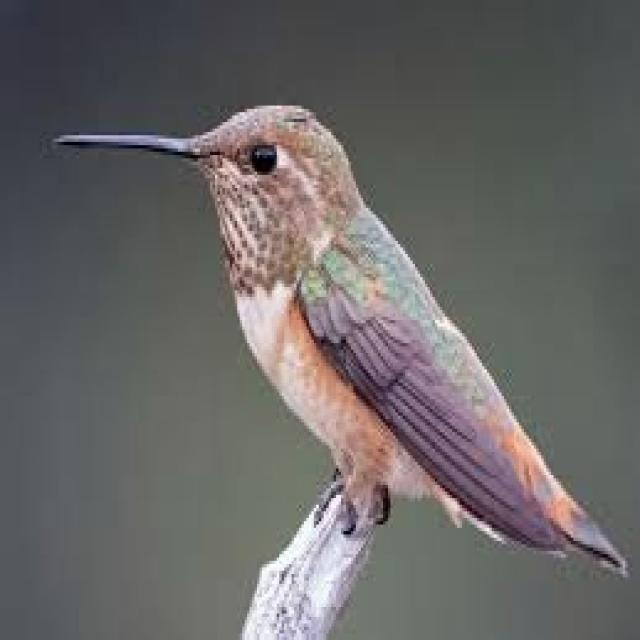hummingbird: (57, 106, 625, 574)
